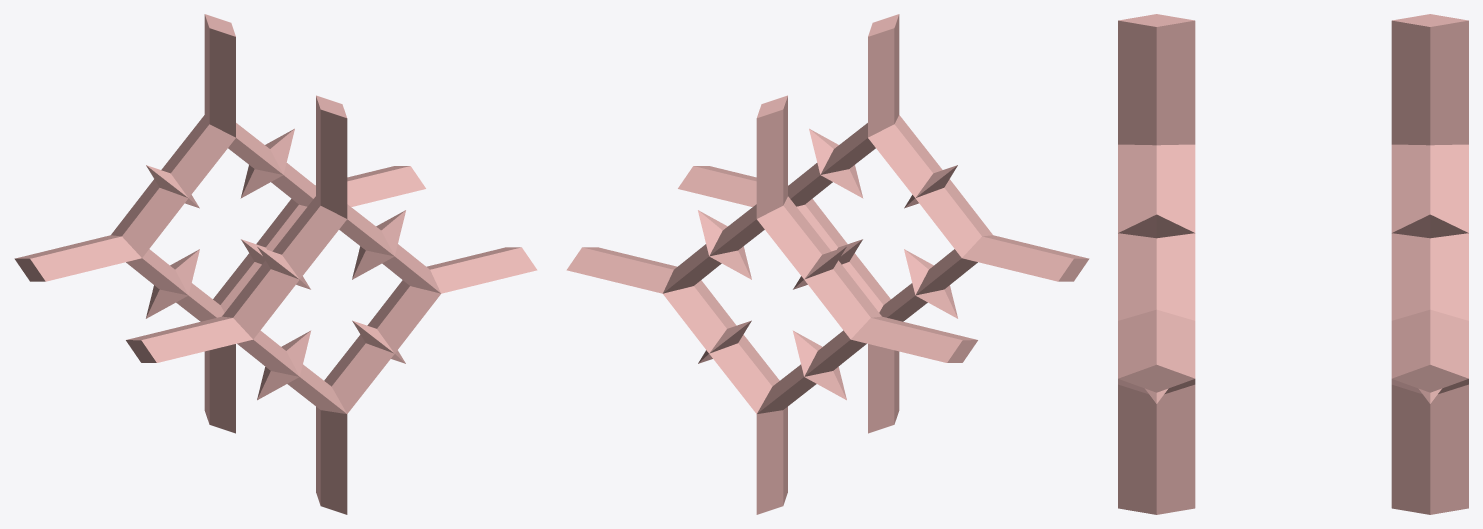
The model's file is Cube008_Inside.fbx.
3 renders of one model, left to right at view 1: azimuth 30°, elevation 25°; view 2: azimuth 150°, elevation 25°; view 3: azimuth 270°, elevation 25°, orthographic. The views are drawn at different scales.
Parts seen in each view (by area): view 1: Cube.001; view 2: Cube.001; view 3: Cube.001.
Part boxes in pixels (x1=…): Cube.001: x1=14, y1=14, x2=537, y2=514; Cube.001: x1=566, y1=14, x2=1089, y2=514; Cube.001: x1=1118, y1=14, x2=1468, y2=514.
Bounding box in the file's own units: 79.05 × 78.71 × 51.31.
